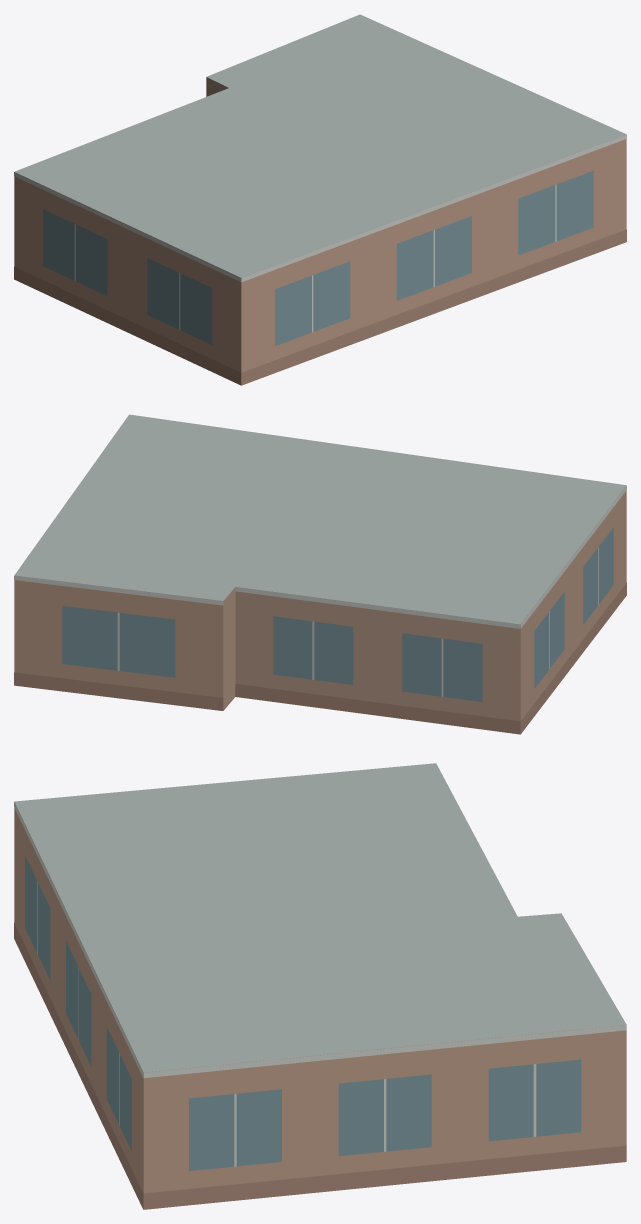
Rendered from survey-upis-32616517.glb.
The picture shows the model from 3 angles, top to bottom: view 1: azimuth 30°, elevation 25°; view 2: azimuth 150°, elevation 25°; view 3: azimuth 270°, elevation 25°; orthographic projection. The views are drawn at different scales.
Visible parts, largest first — view 1: survey-upis-32616517.tmp; view 2: survey-upis-32616517.tmp; view 3: survey-upis-32616517.tmp.
Boxes of the visible parts, x1,y1,x2,y2 form: survey-upis-32616517.tmp: (14,14,626,385); survey-upis-32616517.tmp: (14,414,626,734); survey-upis-32616517.tmp: (14,763,626,1209).
Bounding box in the file's own units: 14.77 × 3.05 × 12.36.
